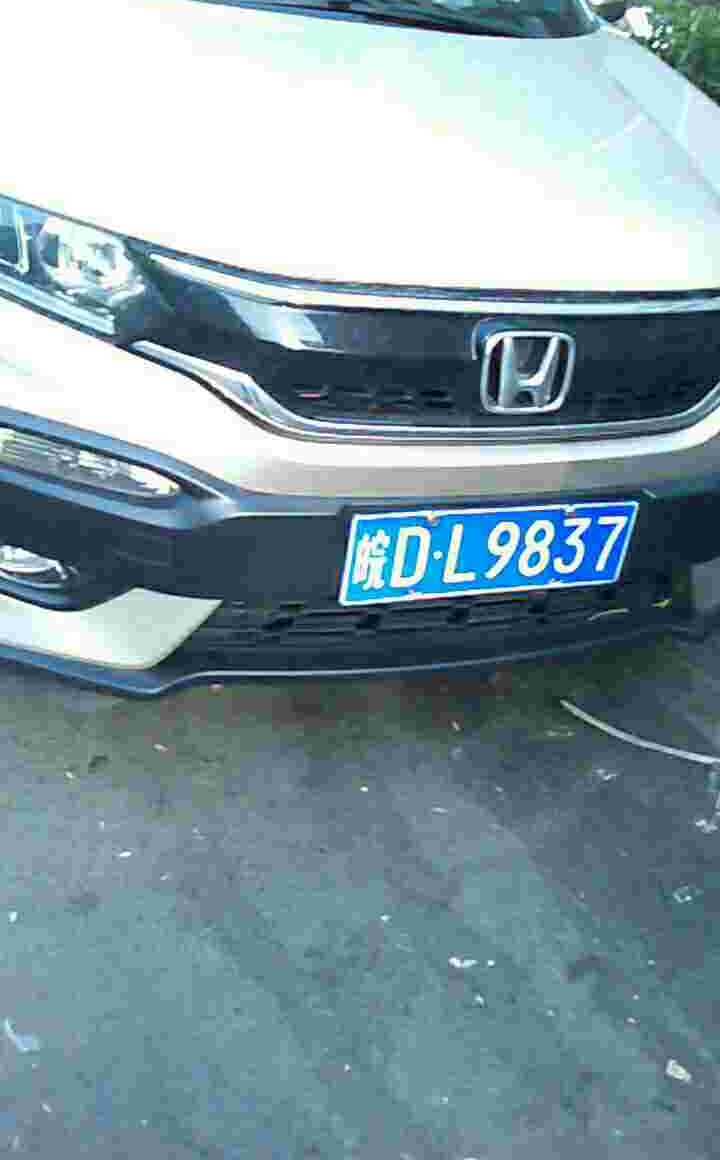car: (341, 492, 638, 600)
